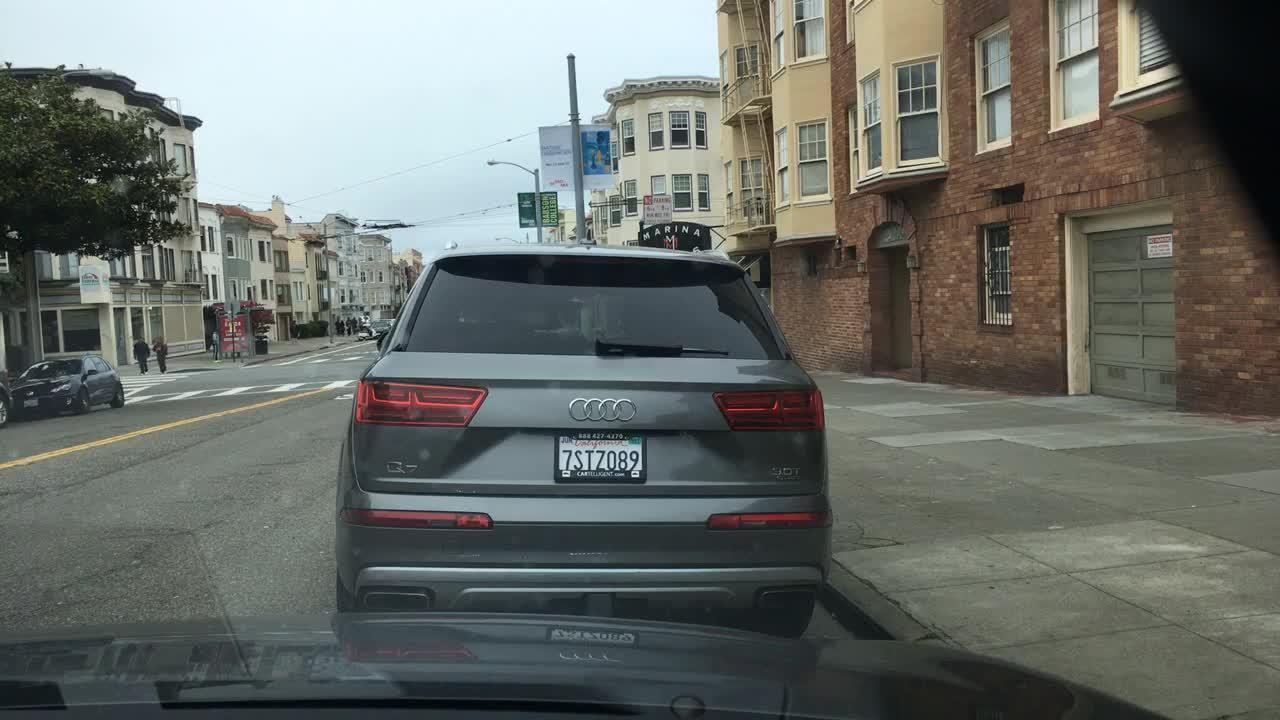Audi: (565, 385, 650, 427)
